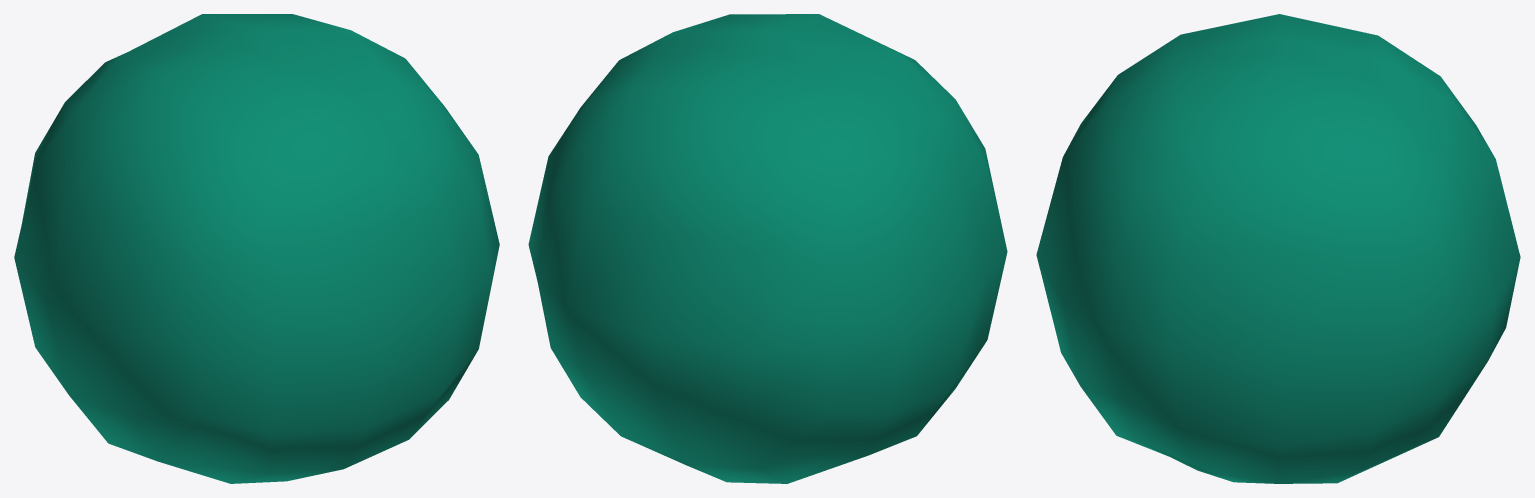
The model's file is misterio_mask_simple (1).fbx.
3 renders of one model, left to right at view 1: azimuth 30°, elevation 25°; view 2: azimuth 150°, elevation 25°; view 3: azimuth 270°, elevation 25°, orthographic.
Parts seen in each view (by area): view 1: mask_misterio; view 2: mask_misterio; view 3: mask_misterio.
Part boxes in pixels (x1,y1,x2,y2): mask_misterio: (14,14,499,483); mask_misterio: (528,14,1007,483); mask_misterio: (1036,14,1520,483).
Size of the model in its own units: 49.06 by 47.61 by 49.06.
